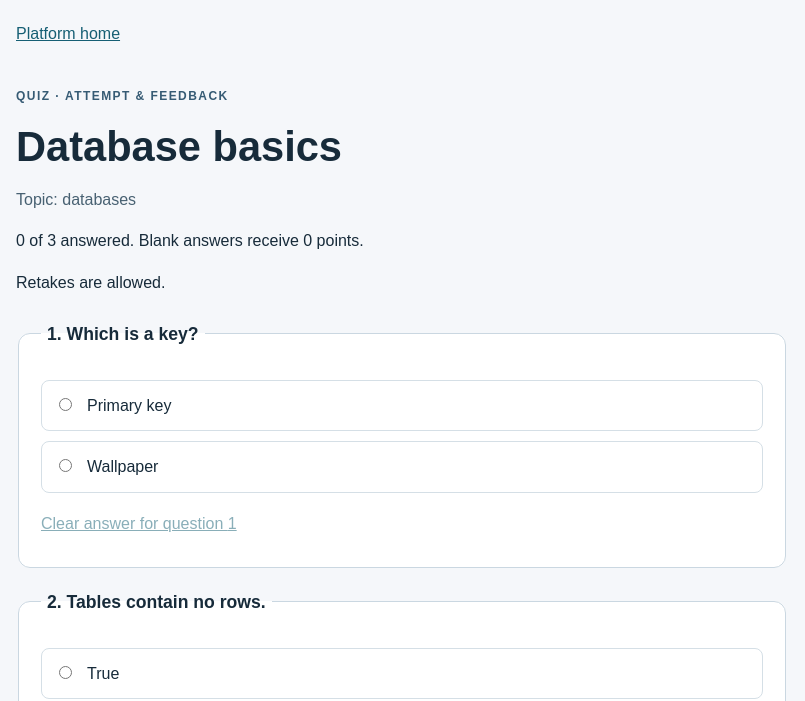
Test: incorrect answer shows correct option text rather than an unexplained index
Expected: the heading "Database basics" is shown, [16,123,342,170]
Click the radio button labelled "Wallpaper". click: (66, 466)
box: [59,459,72,472]
(page scrolled)
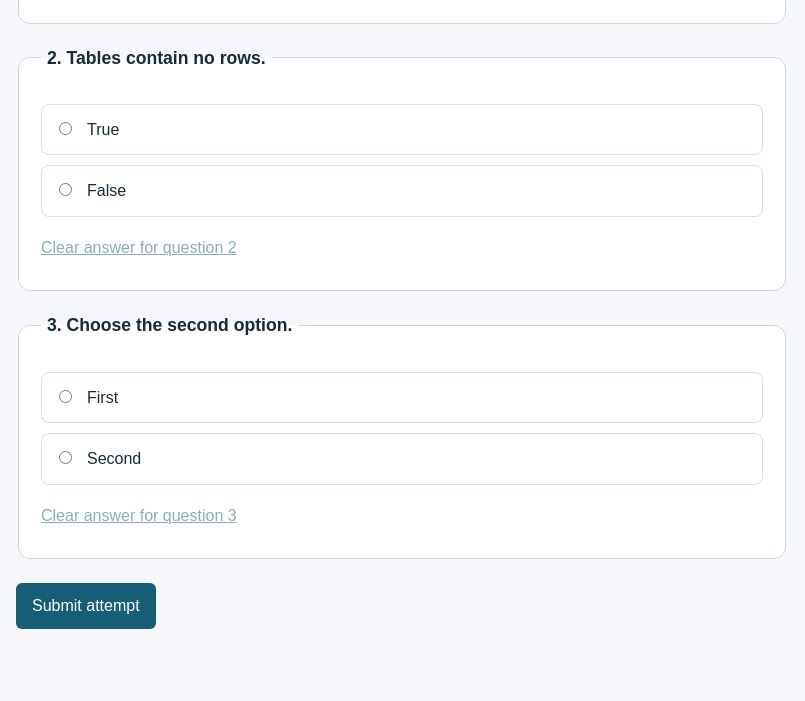
Click the button "Submit attempt". click: (86, 606)
box: [16,583,156,629]
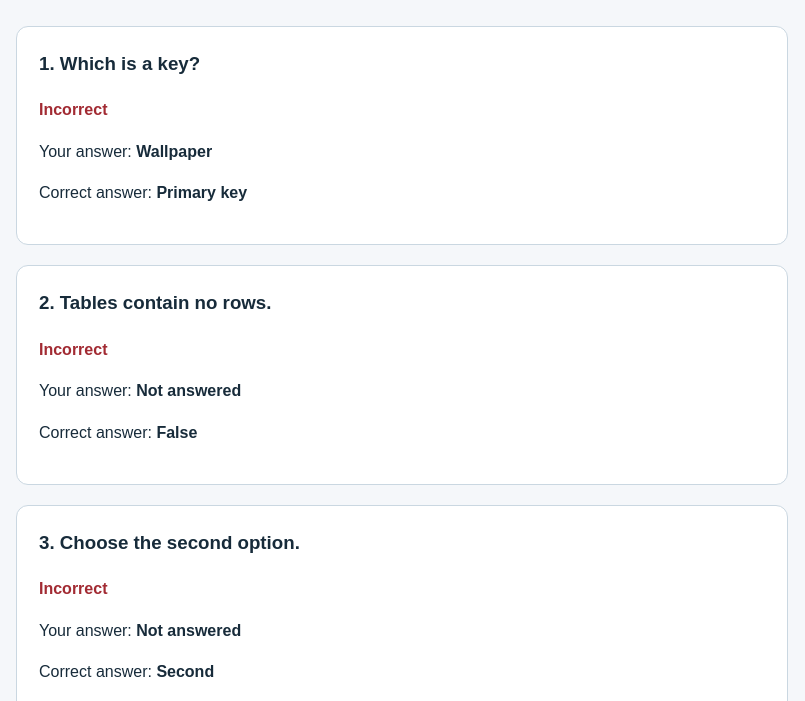
Expected: the text "Incorrect" is shown 3 times, [39,101,108,118]; [39,341,108,358]; [39,580,108,597]
Expected: the text "Your answer: Wallpaper" is shown, [39,143,212,160]
Expected: the text "Correct answer: Primary key" is shown, [39,184,247,202]
